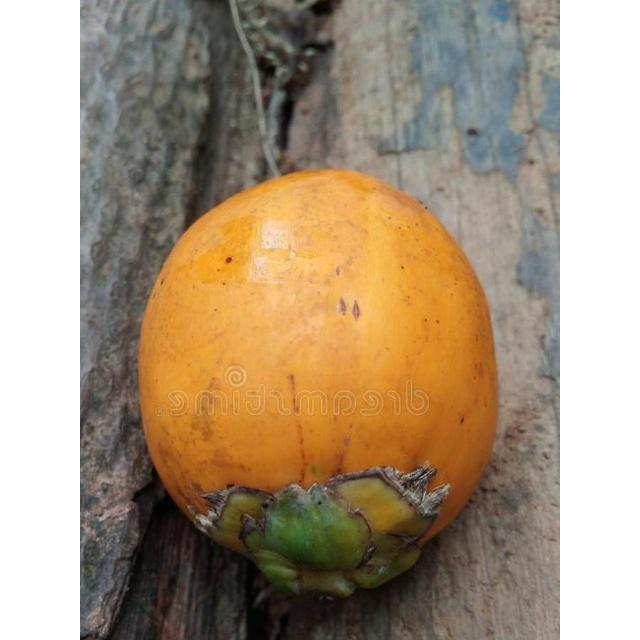good: (138, 169, 499, 602)
